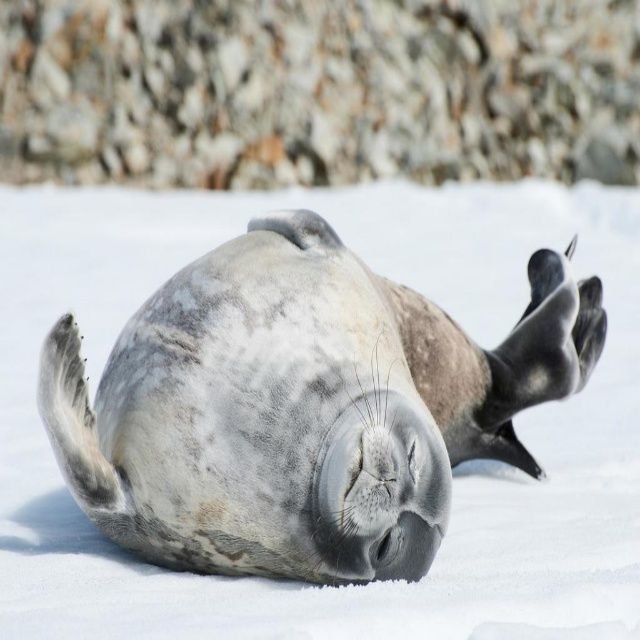Harbor seal: (30, 200, 575, 569)
